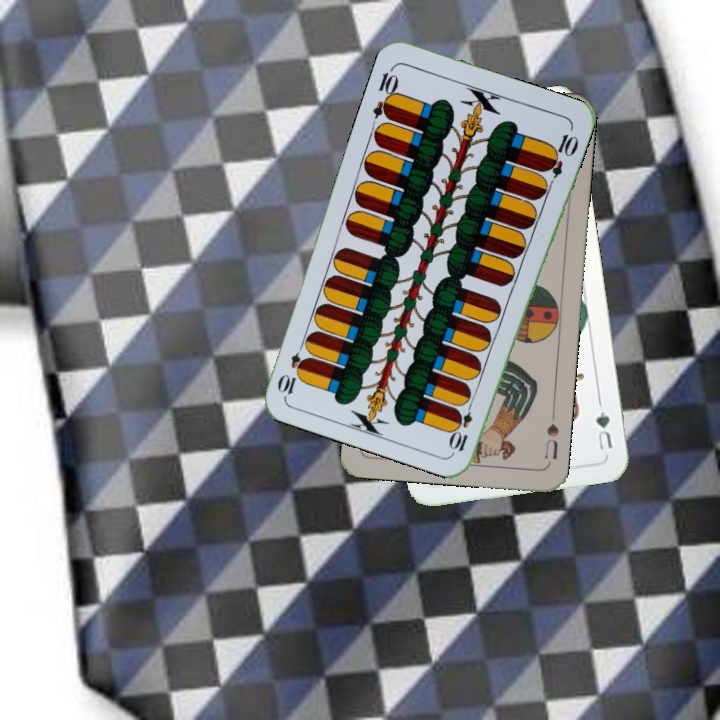E10: (368, 63, 402, 122), (448, 395, 476, 454)
GU: (591, 407, 615, 455)
SU: (540, 407, 561, 462)
